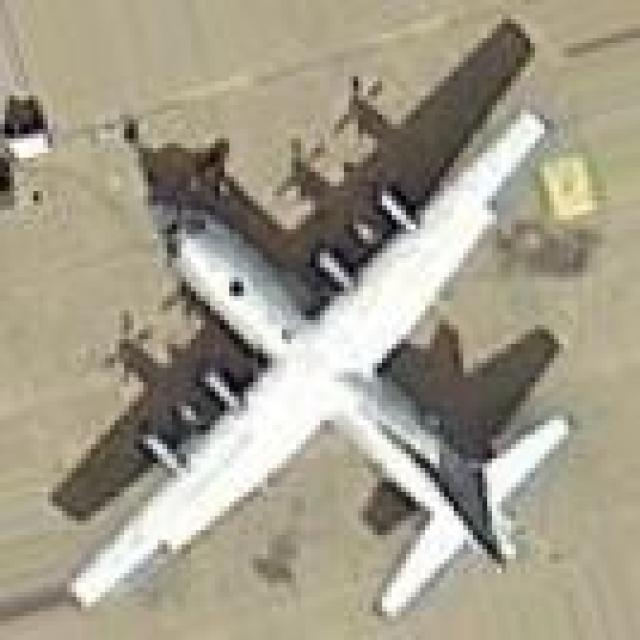C-130_TopDown: (3, 16, 580, 621)
